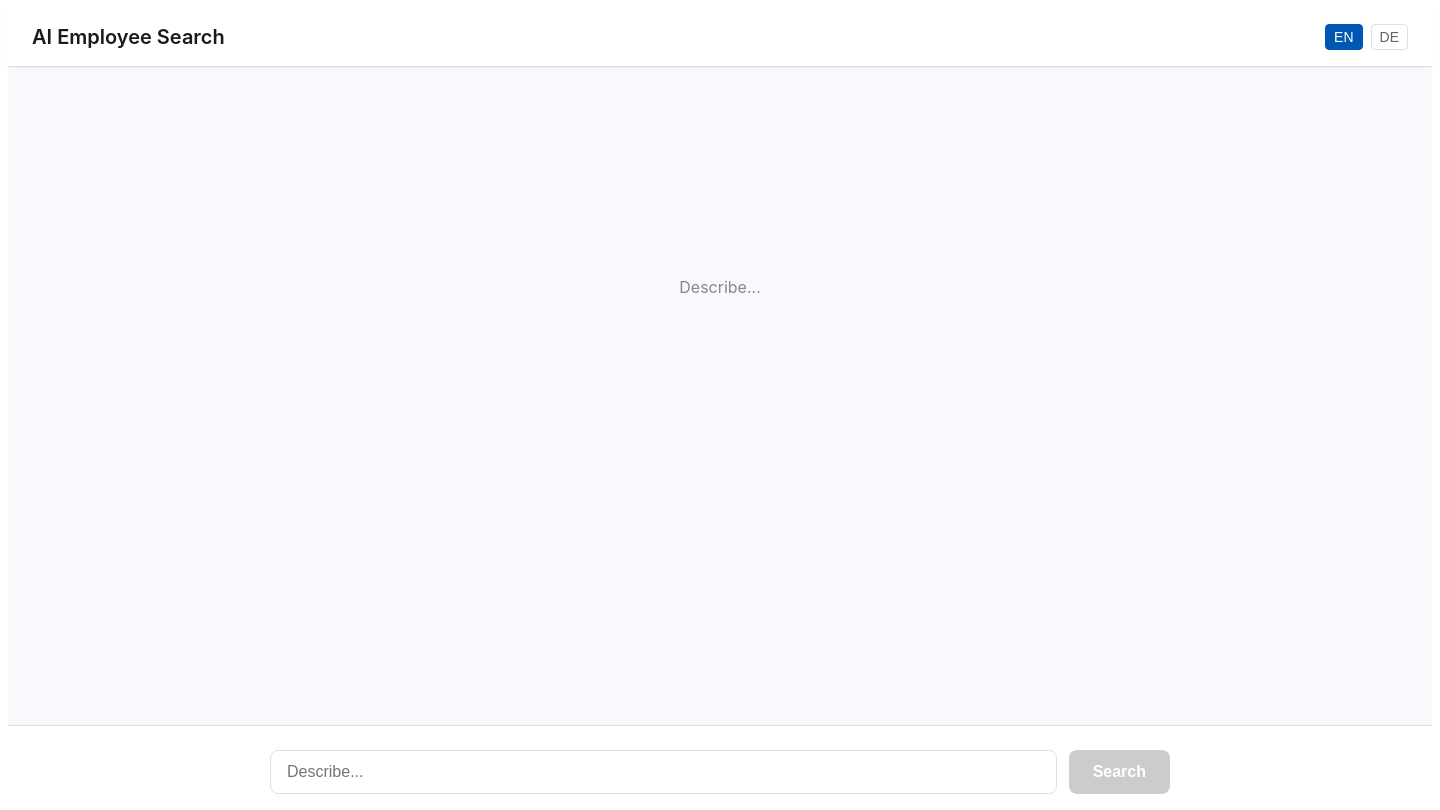
SearchPage › enables submit button when input has text
Step 1. Type "developer" into the field with test id "chat-input" → (663, 772), box [270,750,1057,794]
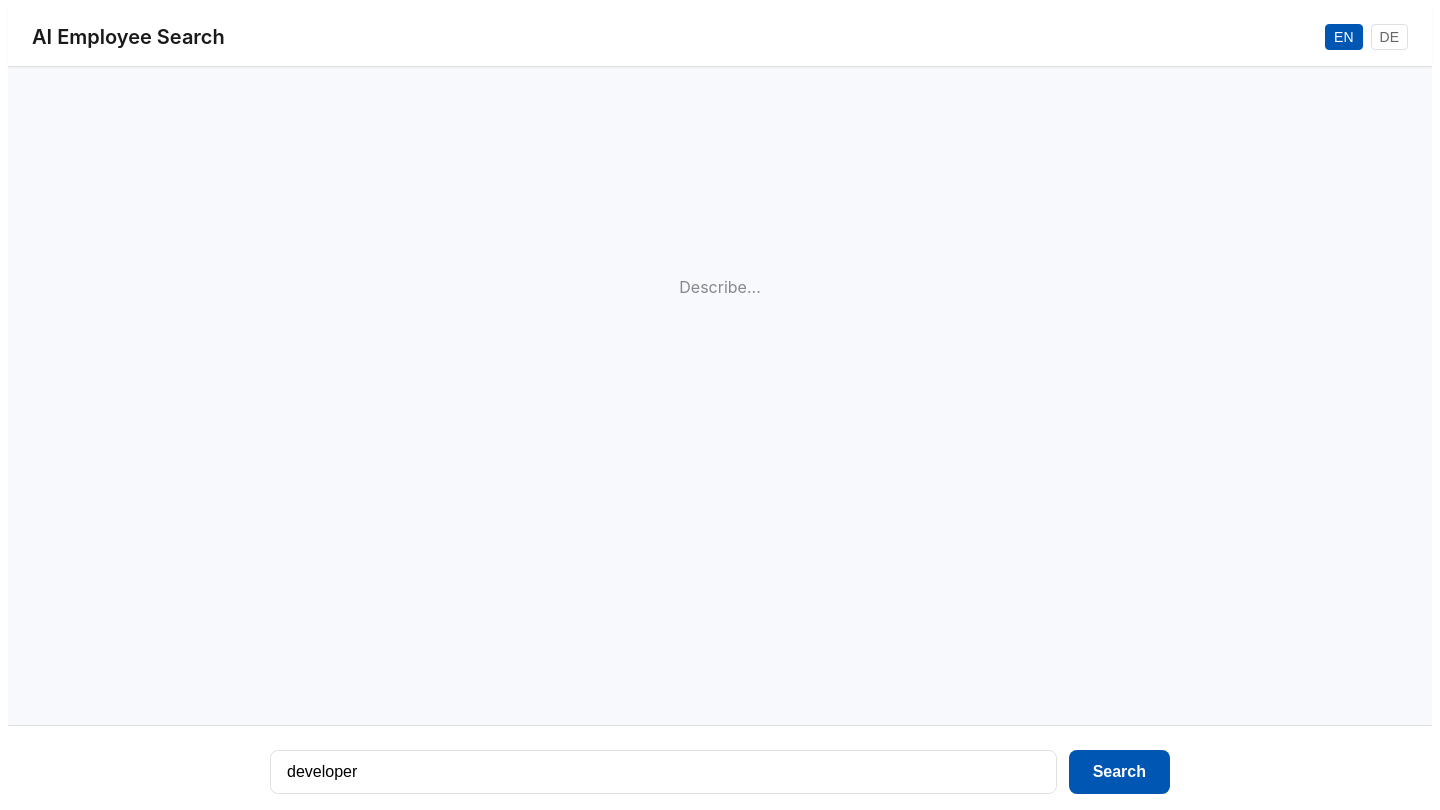
Expected: the button with test id "chat-submit" is enabled, [1069,750,1170,794]
